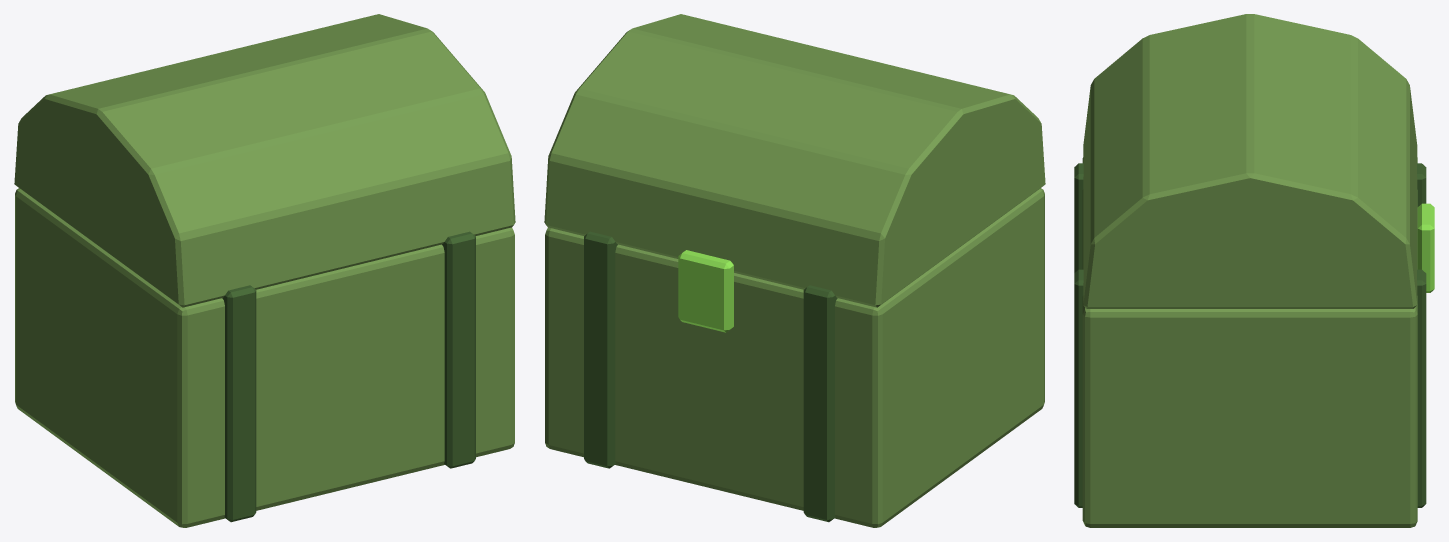
File: jungle_chest_v0.glb
3 renders of one model, left to right at view 1: azimuth 30°, elevation 25°; view 2: azimuth 150°, elevation 25°; view 3: azimuth 270°, elevation 25°, orthographic.
Visible parts, largest first — view 1: jungle_chest_v0, lid; view 2: jungle_chest_v0, lid; view 3: lid, jungle_chest_v0.
Boxes of the visible parts, x1,y1,x2,y2 form: jungle_chest_v0: (15,188,514,527); lid: (14,14,515,307); jungle_chest_v0: (545,188,1044,527); lid: (544,14,1045,307); lid: (1083,14,1417,308); jungle_chest_v0: (1074,157,1434,527).
Size of the model in its own units: 0.92 by 0.9377 by 0.86.
